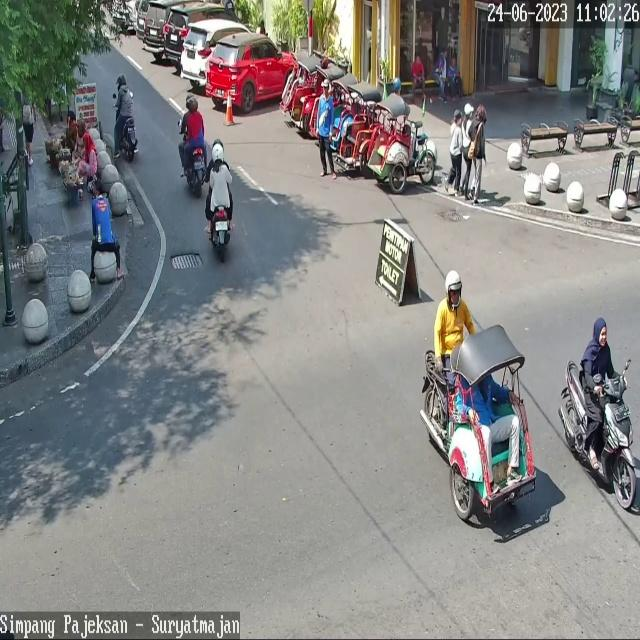bus: (558, 359, 638, 509), (183, 141, 208, 194), (209, 204, 232, 260), (119, 117, 140, 162)
motorcycle: (206, 33, 300, 112), (163, 4, 246, 64), (181, 21, 252, 87), (143, 0, 169, 53)
